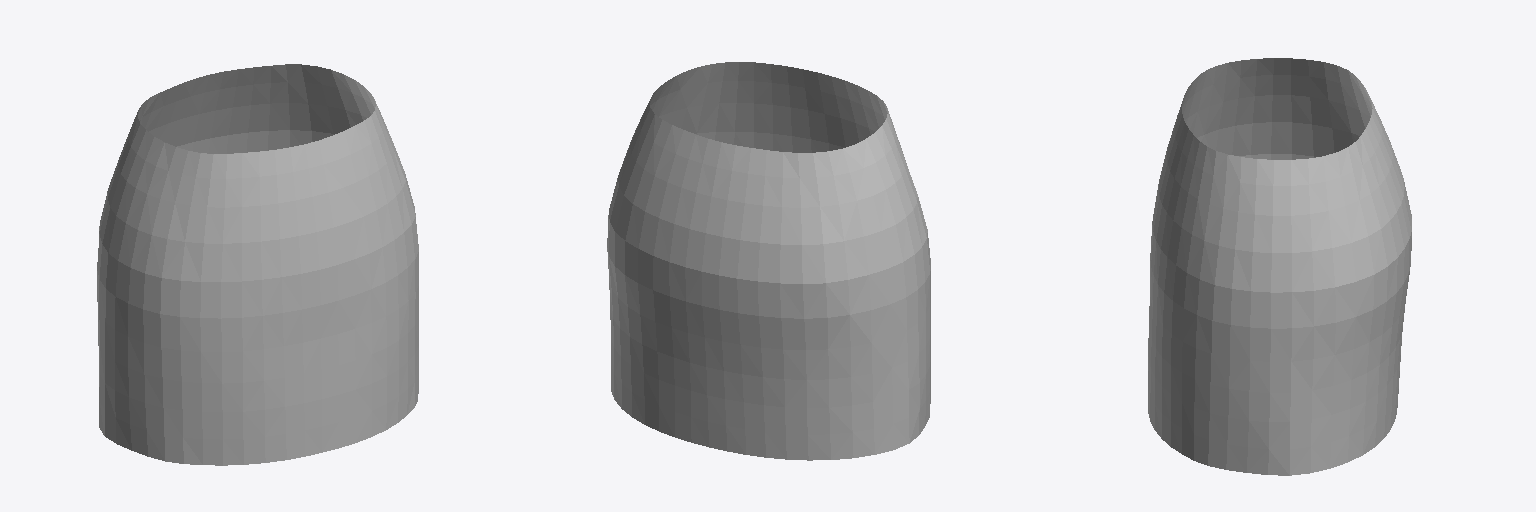
The model's file is 2_skirtshortnarrow.obj.
3 renders of one model, left to right at view 1: azimuth 30°, elevation 25°; view 2: azimuth 150°, elevation 25°; view 3: azimuth 270°, elevation 25°, orthographic.
Parts seen in each view (by area): view 1: skirtfront, skirtback, skirtbackright, skirtbackleft; view 2: skirtback, skirtbackleft, skirtfront, skirtbackright; view 3: skirtfront, skirtbackright, skirtbackleft, skirtback.
Boxes of the visible parts, x1,y1,x2,y2 form: skirtfront: [105, 80, 418, 465]; skirtback: [145, 66, 270, 153]; skirtbackright: [268, 64, 370, 150]; skirtbackleft: [97, 93, 159, 435]; skirtback: [638, 125, 786, 459]; skirtbackleft: [780, 139, 909, 460]; skirtfront: [650, 62, 930, 442]; skirtbackright: [607, 89, 671, 424]; skirtfront: [1148, 58, 1291, 475]; skirtbackright: [1290, 136, 1397, 475]; skirtbackleft: [1291, 58, 1372, 159]; skirtback: [1361, 84, 1411, 437].
Bounding box in the file's own units: 12.98 × 12.57 × 10.16.